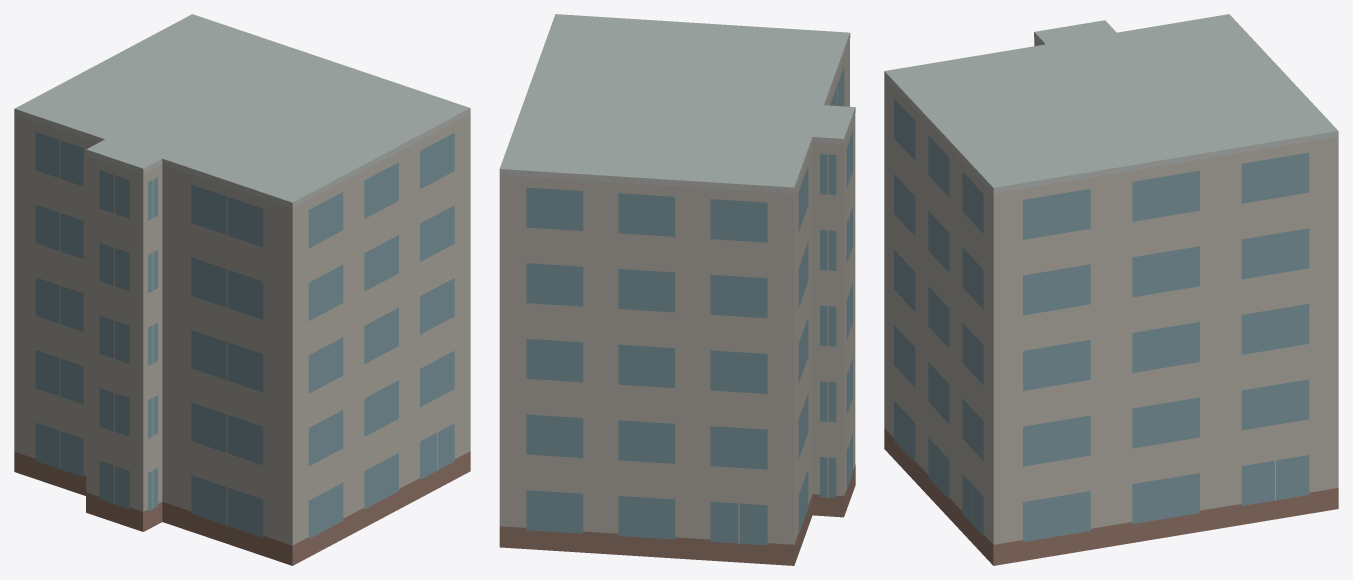
Rendered from survey-upis-32997053.glb.
3 views of the same model, side by side, from view 1: azimuth 30°, elevation 25°; view 2: azimuth 150°, elevation 25°; view 3: azimuth 270°, elevation 25° (orthographic). The views are drawn at different scales.
Parts seen in each view (by area): view 1: survey-upis-32997053.tmp; view 2: survey-upis-32997053.tmp; view 3: survey-upis-32997053.tmp.
Part boxes in pixels (x1,y1,x2,y2): survey-upis-32997053.tmp: (14, 14, 470, 565); survey-upis-32997053.tmp: (499, 14, 855, 565); survey-upis-32997053.tmp: (884, 14, 1338, 565).
Size of the model in its own units: 15.71 by 15.9 by 17.33.
